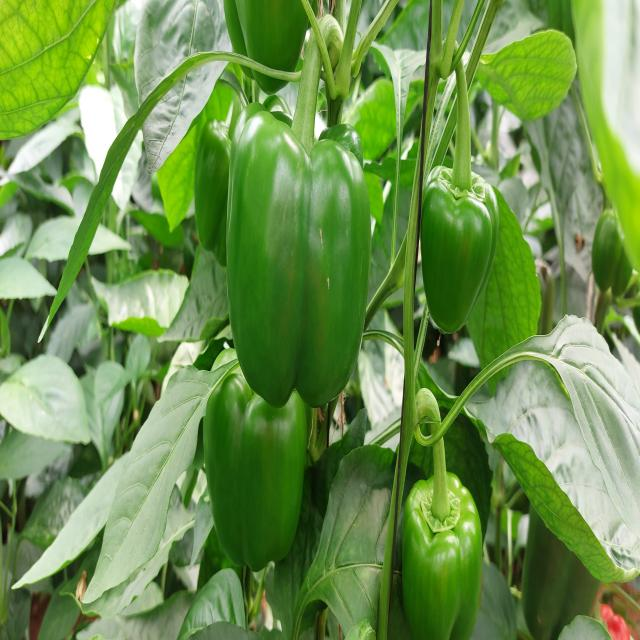Green--Not-ready-to-harvest: (230, 124, 364, 404), (205, 347, 313, 557), (403, 474, 485, 640), (420, 175, 498, 333)
